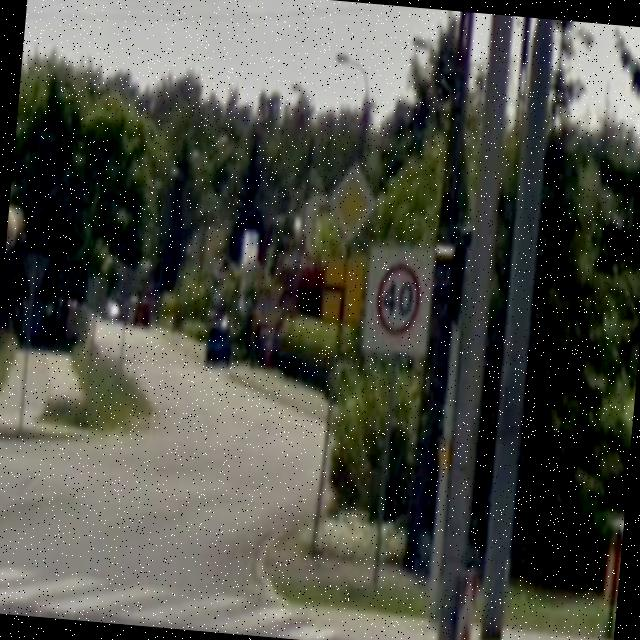Droga z pierwszenstwem: (324, 156, 380, 244)
